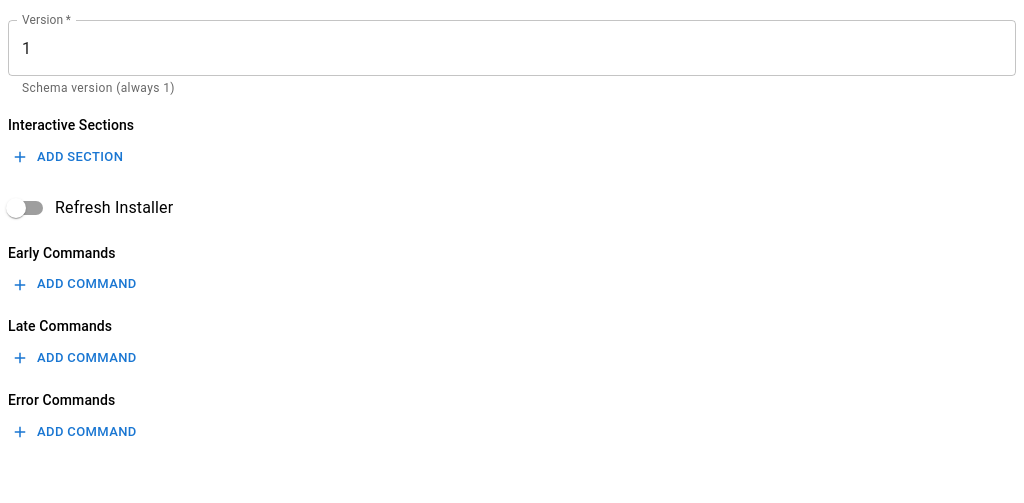
SystemSection › adds early command entry on click
Click the button with test id "add-early-command" at coordinates (75, 285), box x1=8 y1=269 x2=142 y2=300
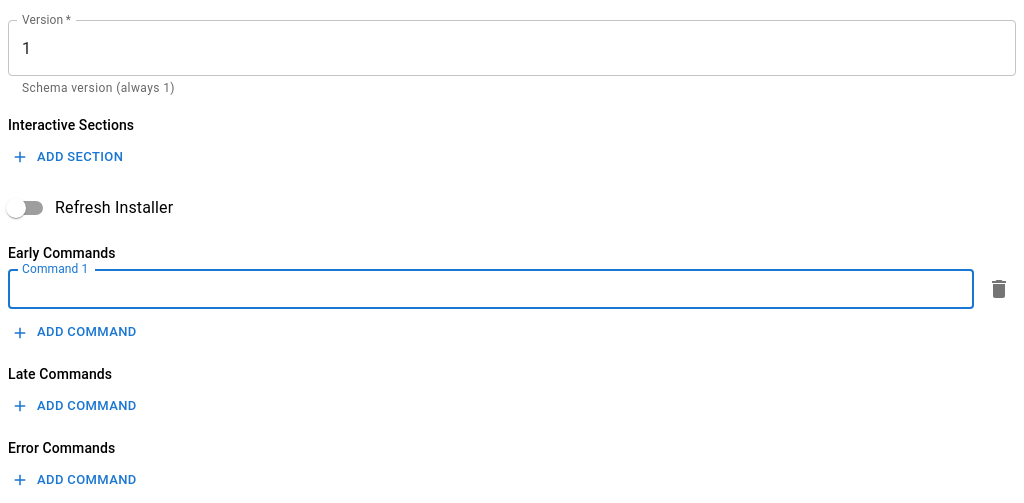
Now the field labelled "Command 1" is shown, box x1=8 y1=269 x2=974 y2=309
